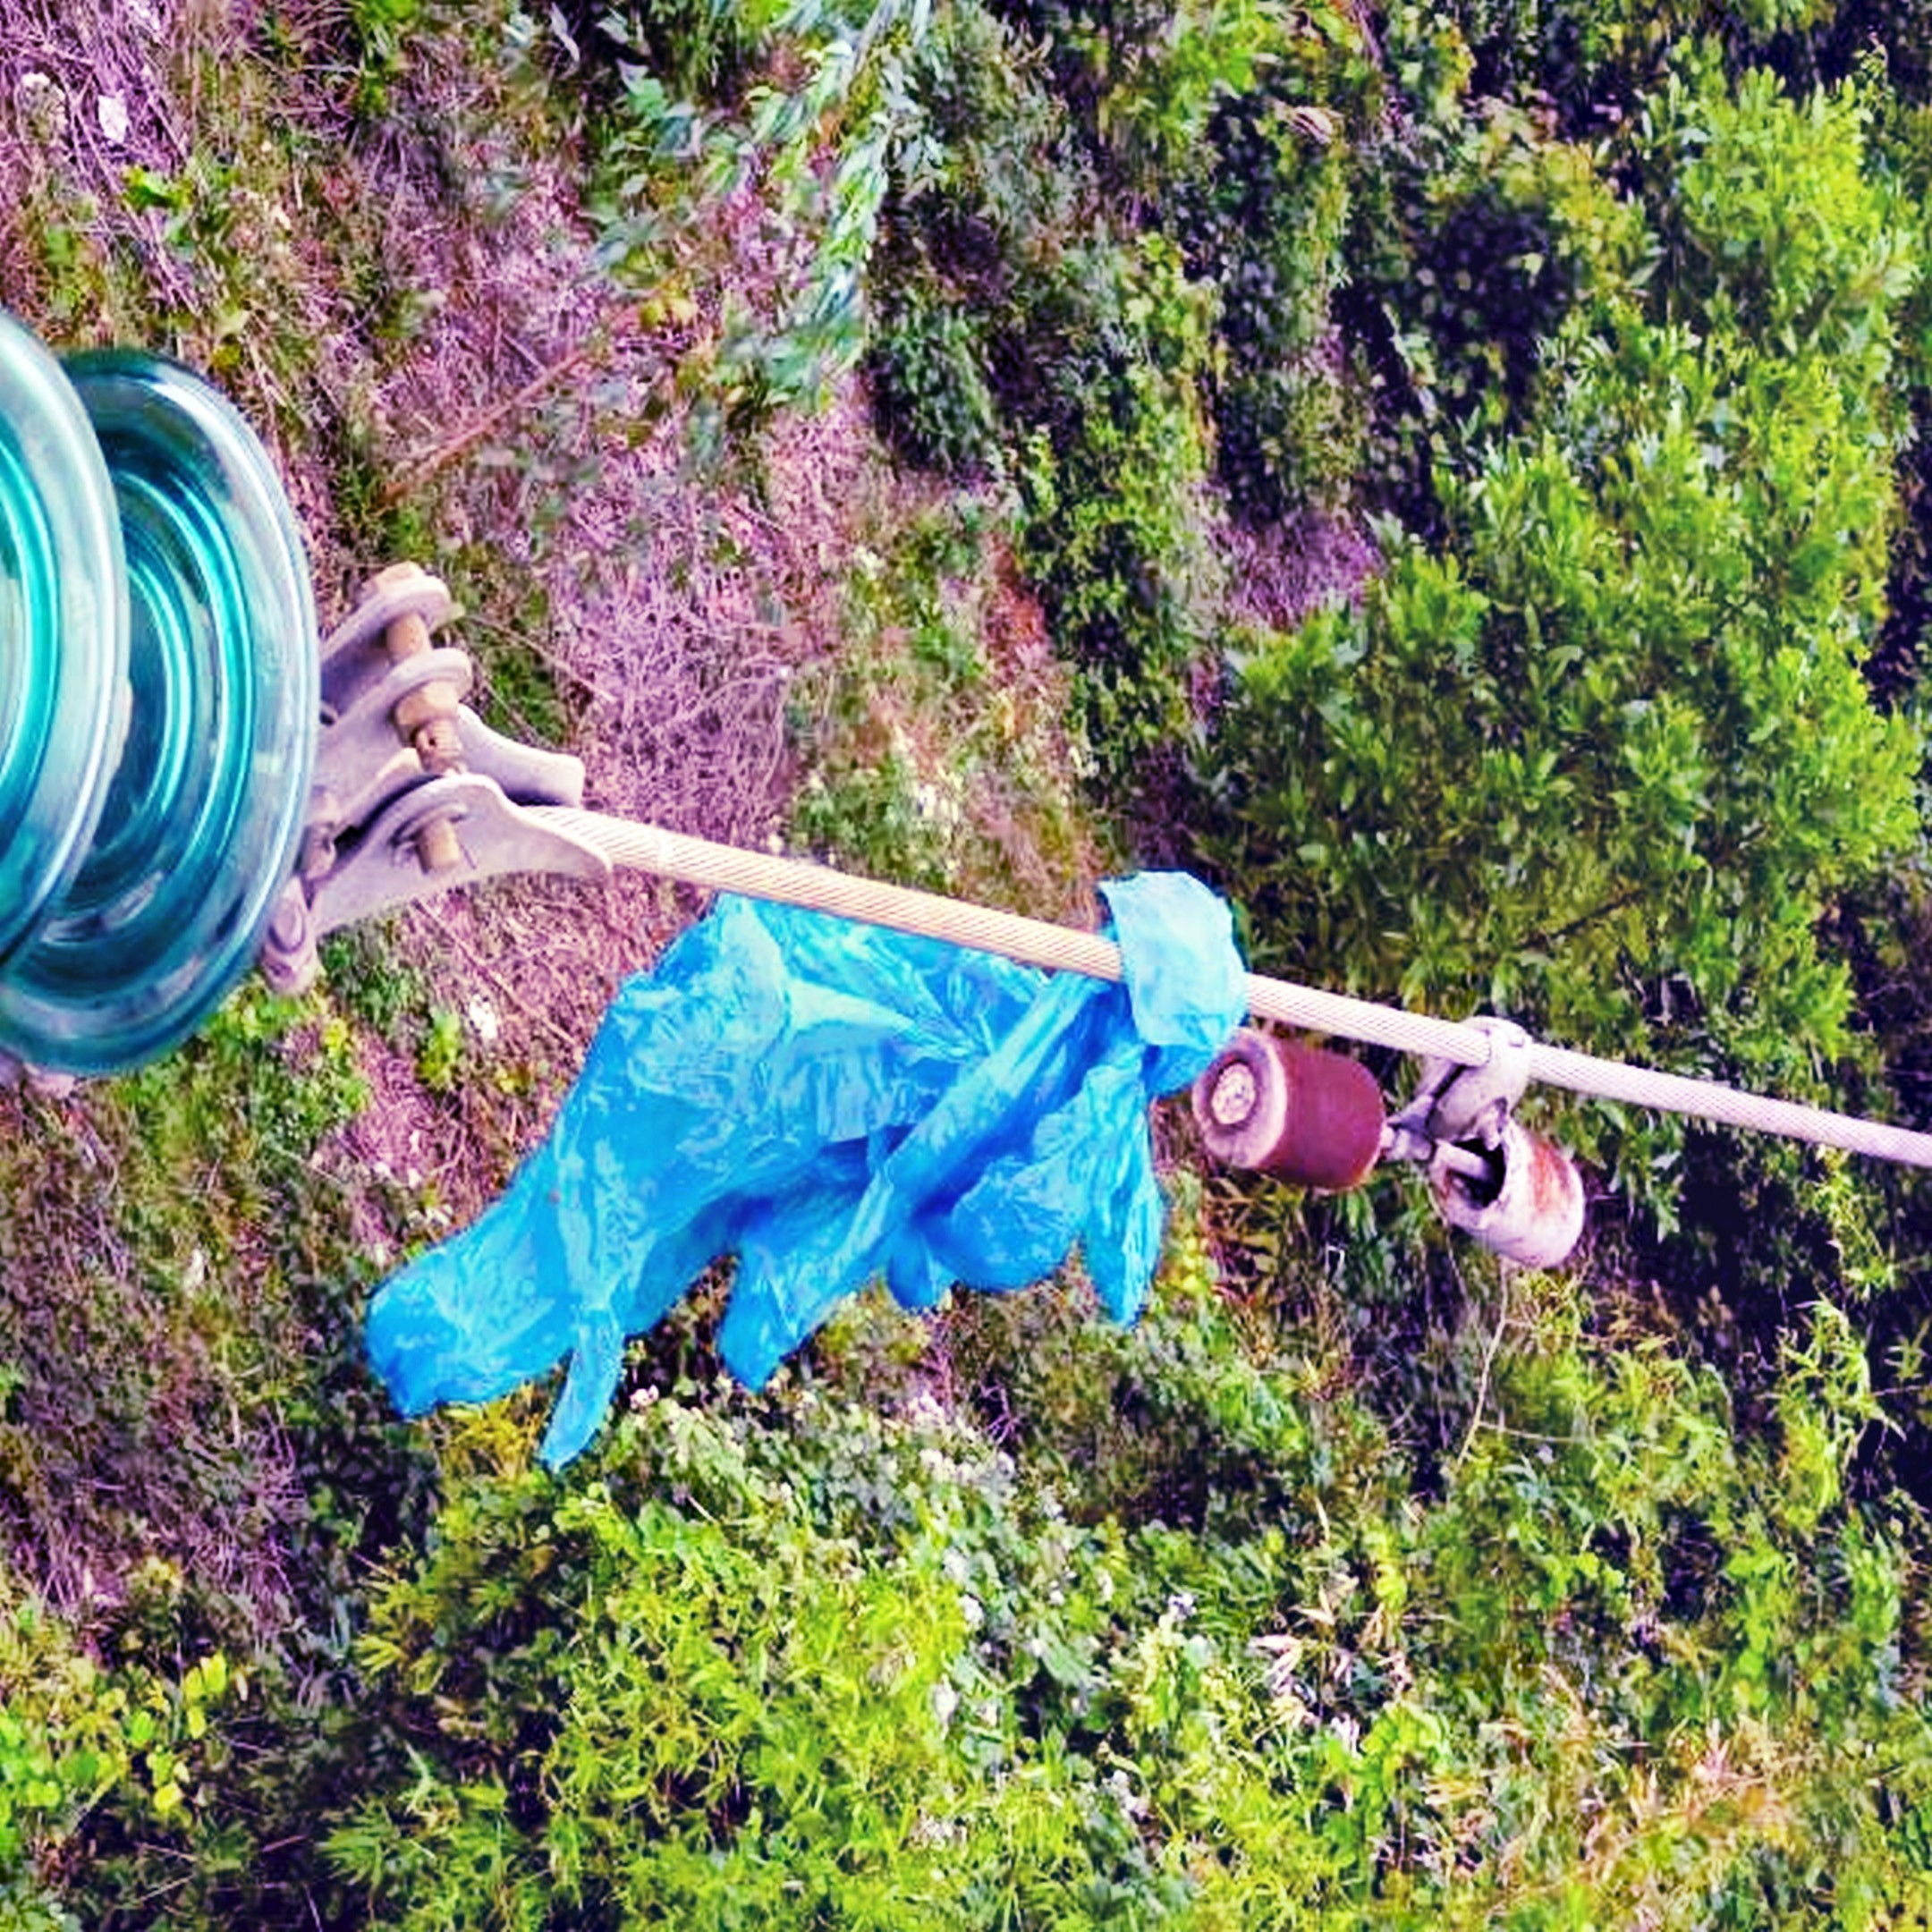wire foreign body: (359, 869, 1228, 1454)
